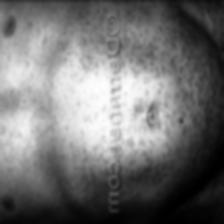Toxin: (126, 131, 146, 163), (164, 30, 180, 48)
